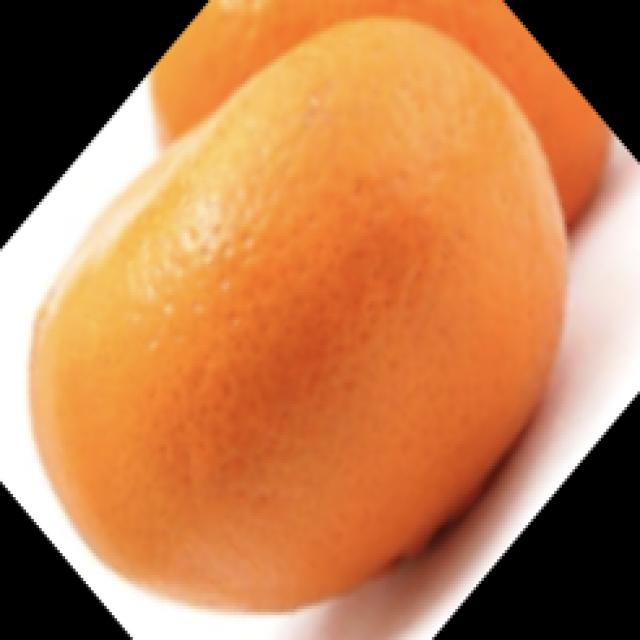fresh: (16, 16, 597, 617)
